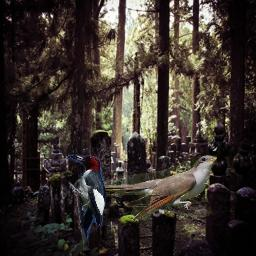Cuckoo: (89, 155, 217, 220)
Woodpecker: (68, 154, 106, 250)
